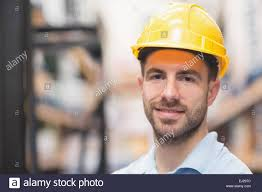Person_wearing_helmet: (135, 1, 229, 90)
